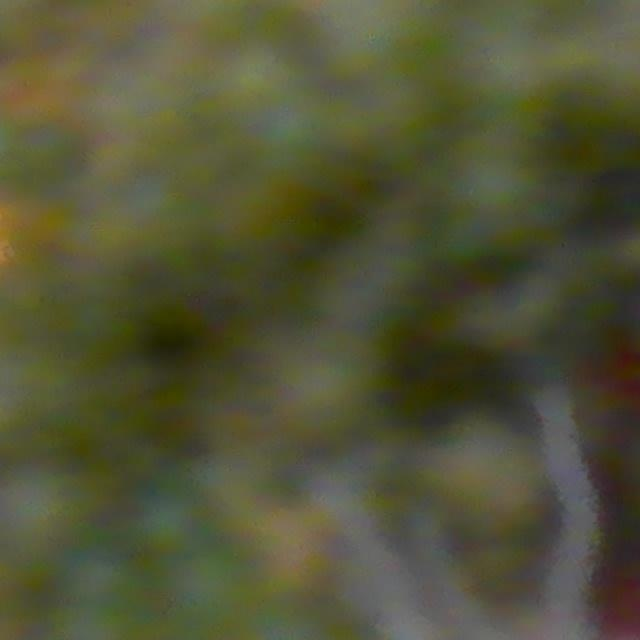SeaGrape: (0, 460, 90, 557)
